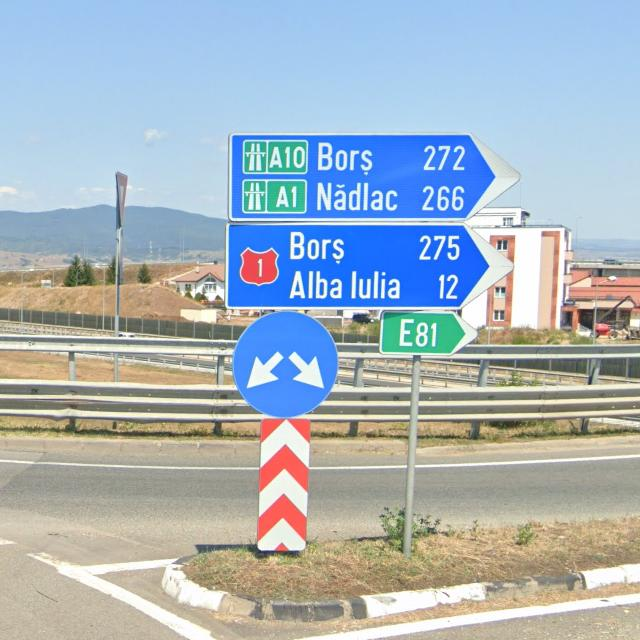info_highway: (242, 139, 268, 174), (242, 180, 266, 213)
mand_pass_left_right: (229, 311, 340, 419)
